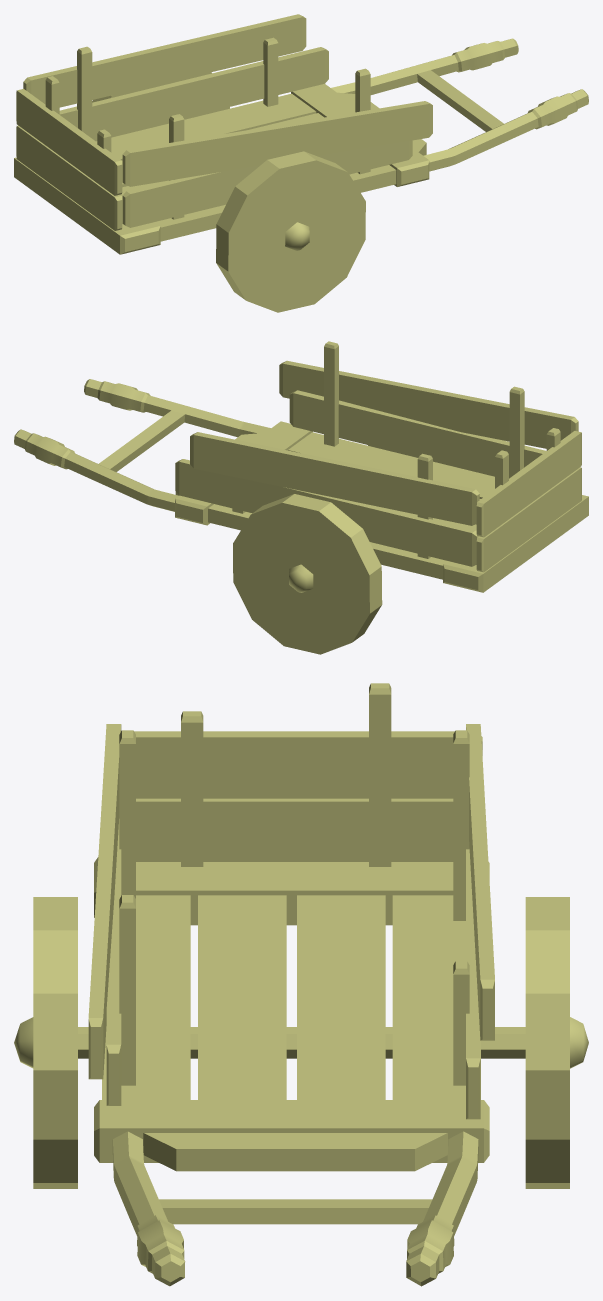
File: Cart_1.fbx
The picture shows the model from 3 angles, top to bottom: view 1: azimuth 30°, elevation 25°; view 2: azimuth 150°, elevation 25°; view 3: azimuth 270°, elevation 25°; orthographic projection. The views are drawn at different scales.
Visible parts, largest first — view 1: Cart1; view 2: Cart1; view 3: Cart1.
Boxes of the visible parts, x1=… form: Cart1: x1=14, y1=14, x2=588, y2=312; Cart1: x1=14, y1=341, x2=588, y2=654; Cart1: x1=14, y1=683, x2=588, y2=1286.
Size of the model in its own units: 300 by 116 by 170.
